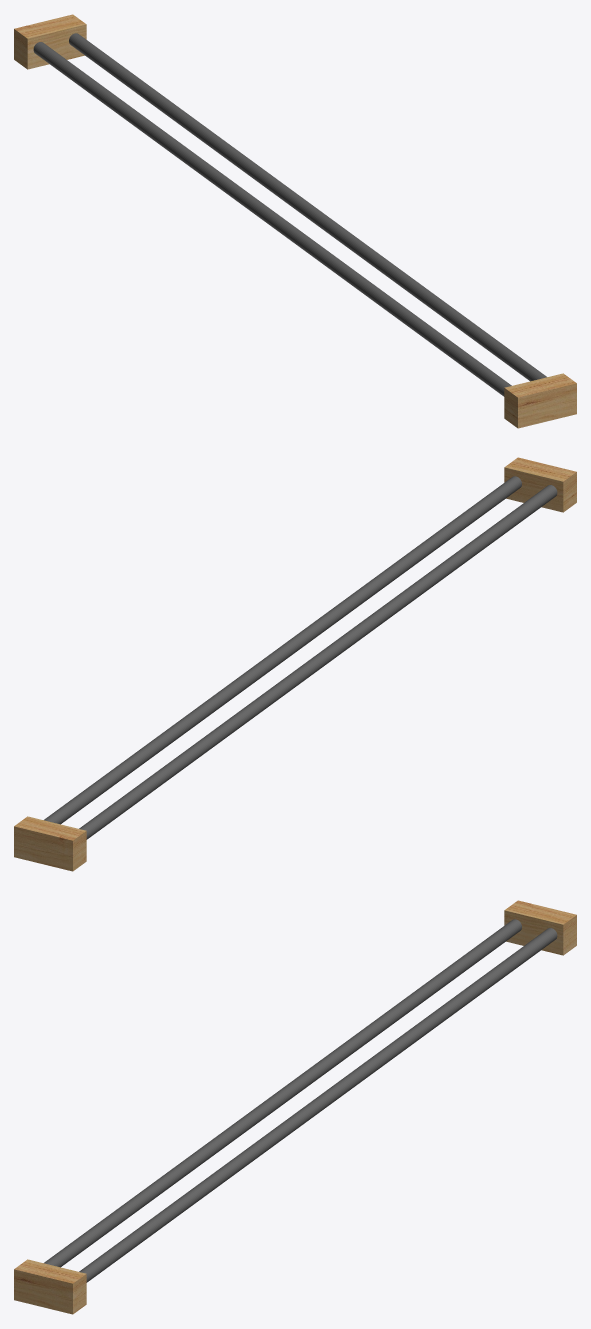
The model's file is track.glb.
The picture shows the model from 3 angles, top to bottom: view 1: azimuth 30°, elevation 25°; view 2: azimuth 150°, elevation 25°; view 3: azimuth 330°, elevation 25°; orthographic projection.
Parts seen in each view (by area): view 1: Cylinder.002; view 2: Cylinder.002; view 3: Cylinder.002.
Part boxes in pixels (x1,y1,x2,y2): Cylinder.002: (14, 14, 576, 428); Cylinder.002: (14, 457, 576, 871); Cylinder.002: (14, 900, 576, 1314).
Size of the model in its own units: 0.05 by 0.025 by 0.74.
Materials: 1 (1 with a texture image).
